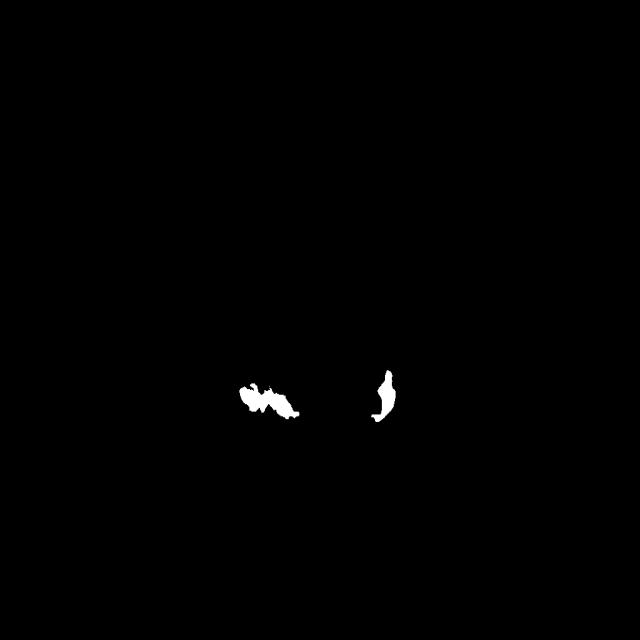fire: (194, 372, 432, 432)
